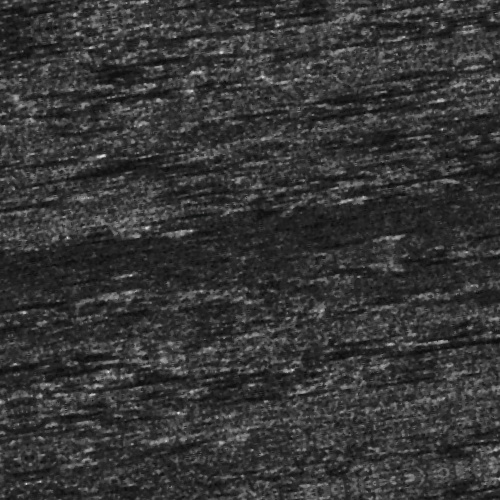object: (56, 265, 149, 274), (434, 124, 497, 131), (1, 430, 74, 435), (196, 43, 259, 48), (38, 165, 101, 170), (0, 440, 31, 447), (478, 200, 500, 207)
shadow: (316, 124, 465, 131), (367, 200, 500, 207), (0, 265, 102, 274), (58, 43, 227, 48), (422, 369, 500, 378), (0, 165, 69, 170), (0, 430, 38, 435)
